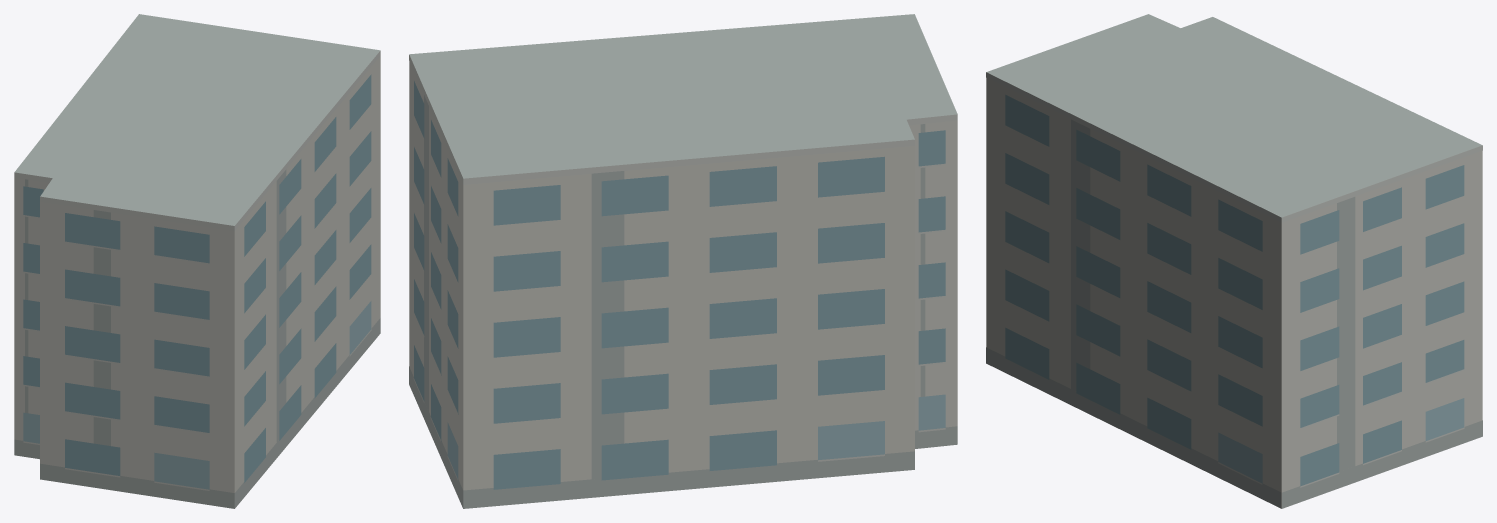
Rendered from survey-upis-32635192.glb.
3 renders of one model, left to right at view 1: azimuth 30°, elevation 25°; view 2: azimuth 150°, elevation 25°; view 3: azimuth 270°, elevation 25°, orthographic. The views are drawn at different scales.
Parts seen in each view (by area): view 1: survey-upis-32635192.tmp; view 2: survey-upis-32635192.tmp; view 3: survey-upis-32635192.tmp.
Part boxes in pixels (x1,y1,x2,y2): survey-upis-32635192.tmp: [14, 14, 380, 508]; survey-upis-32635192.tmp: [409, 14, 957, 508]; survey-upis-32635192.tmp: [986, 14, 1482, 508].
Bounding box in the file's own units: 19.65 × 13.1 × 20.25.
